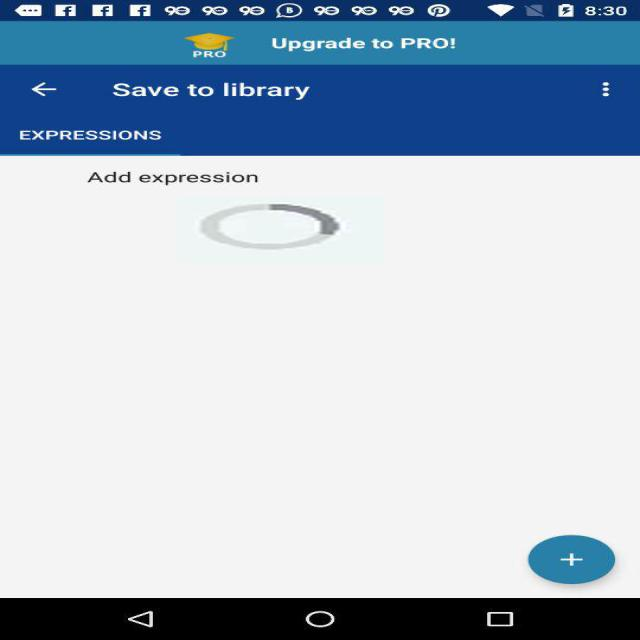misdirection: (178, 197, 385, 263)
